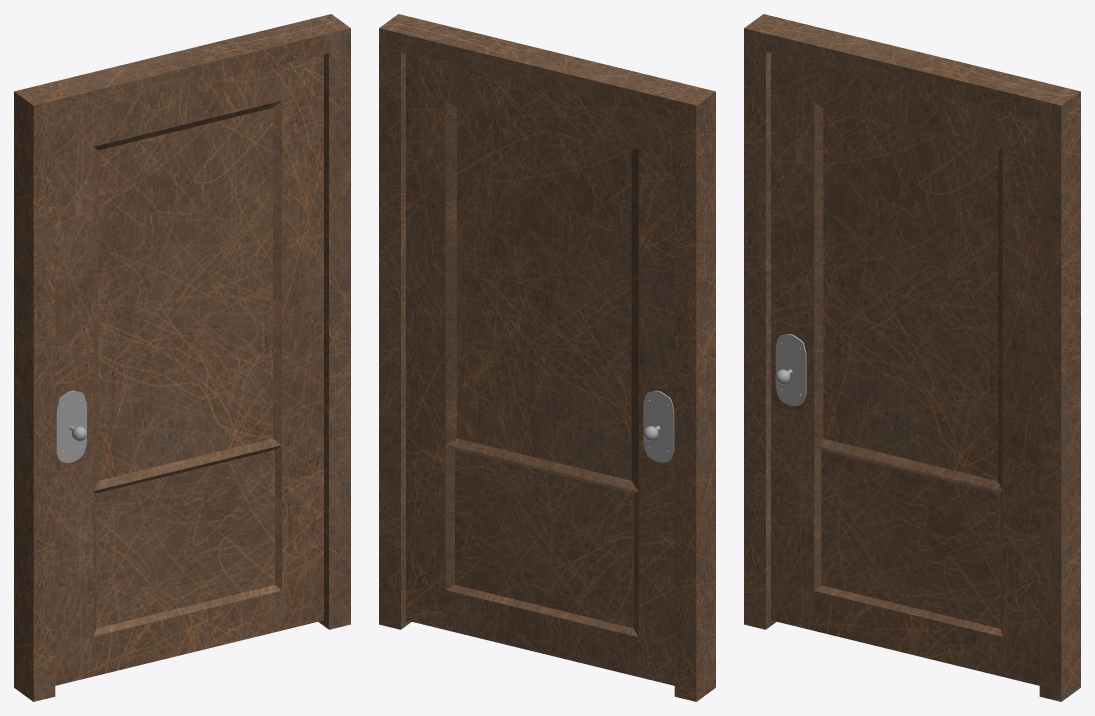
Rendered from door_wood.glb.
3 views of the same model, side by side, from view 1: azimuth 30°, elevation 25°; view 2: azimuth 150°, elevation 25°; view 3: azimuth 330°, elevation 25° (orthographic).
Visible parts, largest first — view 1: Sphere.001, Cube.001; view 2: Sphere.001, Cube.001; view 3: Sphere.001, Cube.001.
Part boxes in pixels (x1=…): Sphere.001: x1=55, y1=54, x2=323, y2=685; Cube.001: x1=14, y1=14, x2=350, y2=701; Sphere.001: x1=406, y1=54, x2=674, y2=685; Cube.001: x1=379, y1=14, x2=715, y2=701; Sphere.001: x1=771, y1=53, x2=1039, y2=685; Cube.001: x1=744, y1=14, x2=1080, y2=701.
Size of the model in its own units: 1.15 by 2.07 by 0.2133.
Materials: 4 (2 with a texture image).
